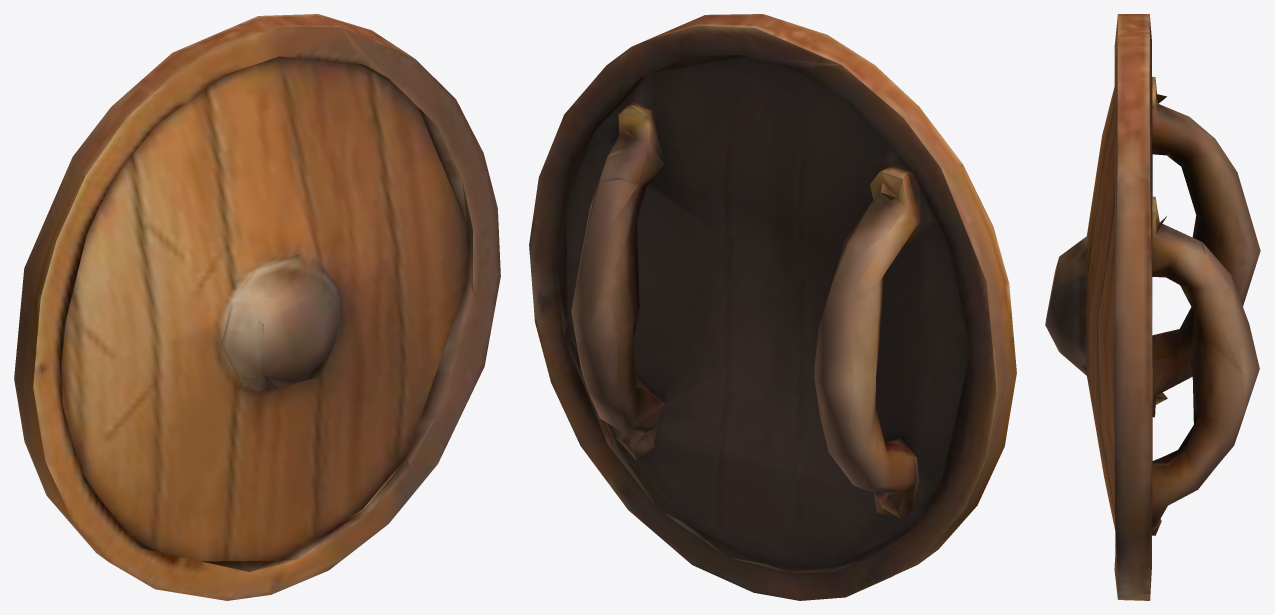
File: wpn_shield3.glb
3 renders of one model, left to right at view 1: azimuth 30°, elevation 25°; view 2: azimuth 150°, elevation 25°; view 3: azimuth 270°, elevation 25°, orthographic. The views are drawn at different scales.
Size of the model in its own units: 1.66 by 1.91 by 0.6856.
1 material, 1 textured.
